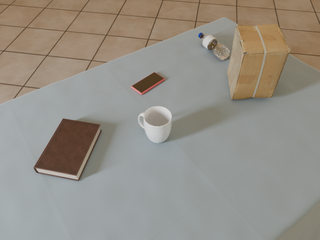book: (34, 119, 102, 181)
bottle: (199, 33, 230, 60)
box: (227, 24, 291, 100)
cup: (138, 106, 172, 143)
phone: (131, 72, 165, 95)
